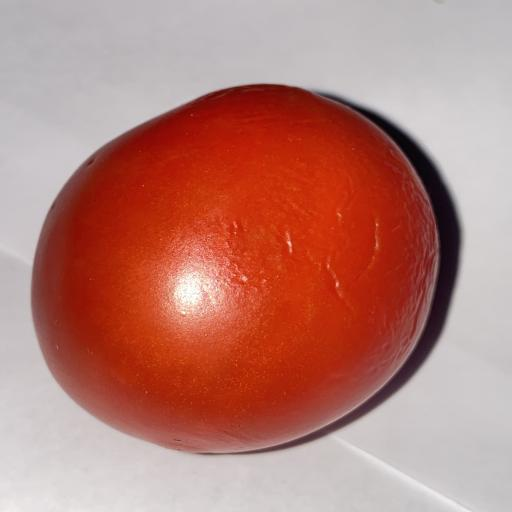overipe: (32, 85, 438, 452)
